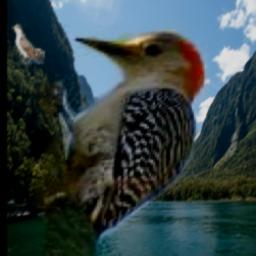Cuckoo: (12, 24, 46, 64)
Woodpecker: (34, 19, 240, 256)
